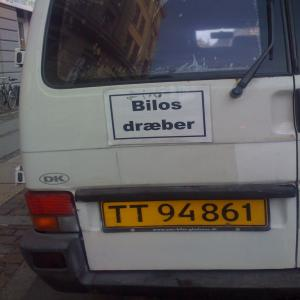Vehicle-registration-plate: (90, 198, 246, 235)
